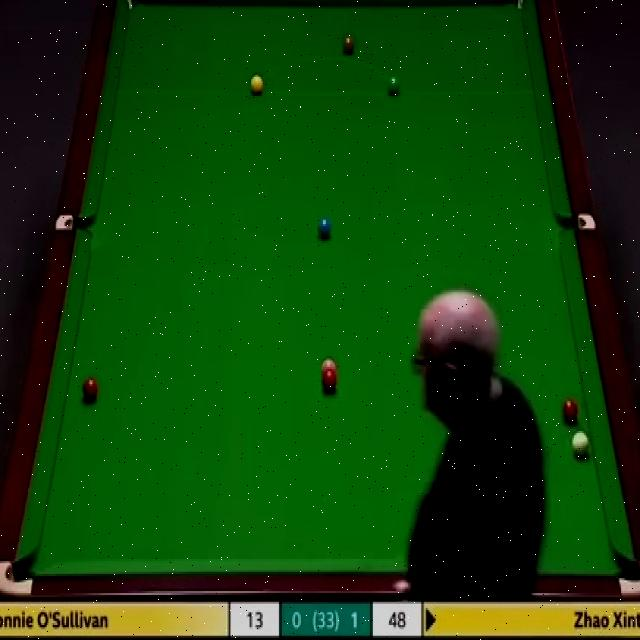blue-ball: (317, 216, 333, 239)
brown-ball: (342, 35, 354, 56)
green-ball: (386, 74, 400, 96)
pink-ball: (320, 358, 338, 374)
red-ball: (82, 375, 99, 403), (562, 399, 580, 423), (320, 370, 338, 392)
white-ball: (570, 430, 589, 457)
yellow-ball: (252, 76, 266, 97)
